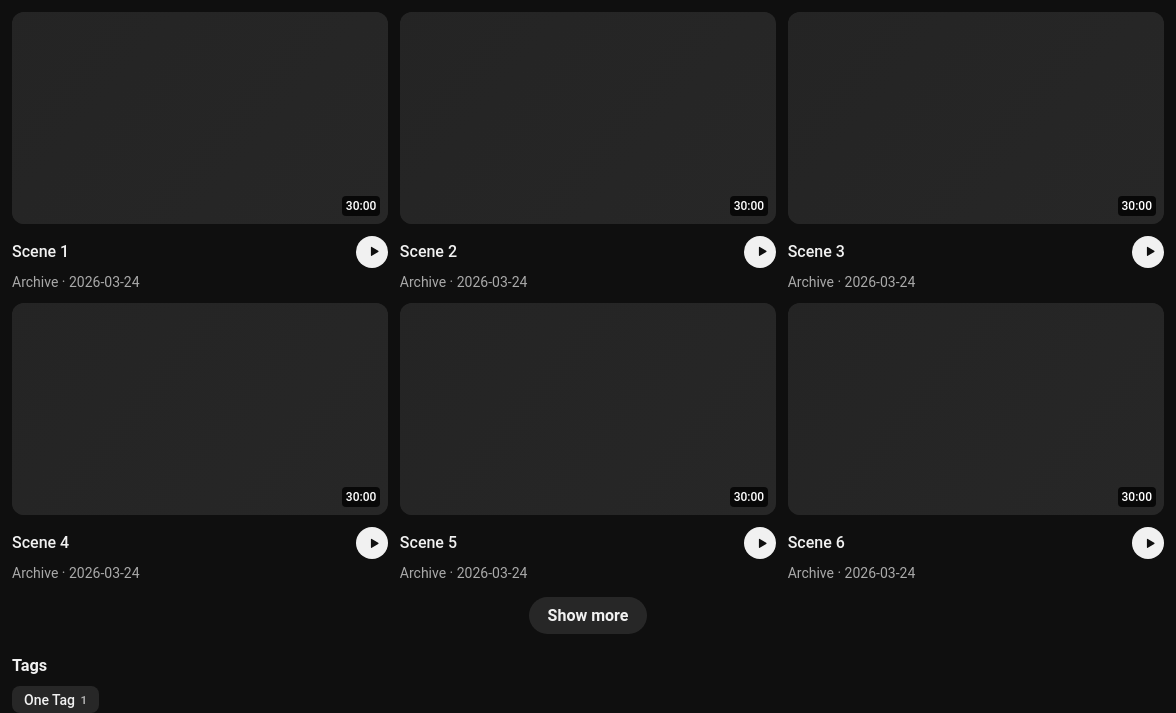
Test: LibrarySearchComponent › loads the next scenes with "Show more" and hides it once everything is shown
(page scrolled)
Click the button with test id "library-search-show-more": [588, 615] box [529,597,647,634]
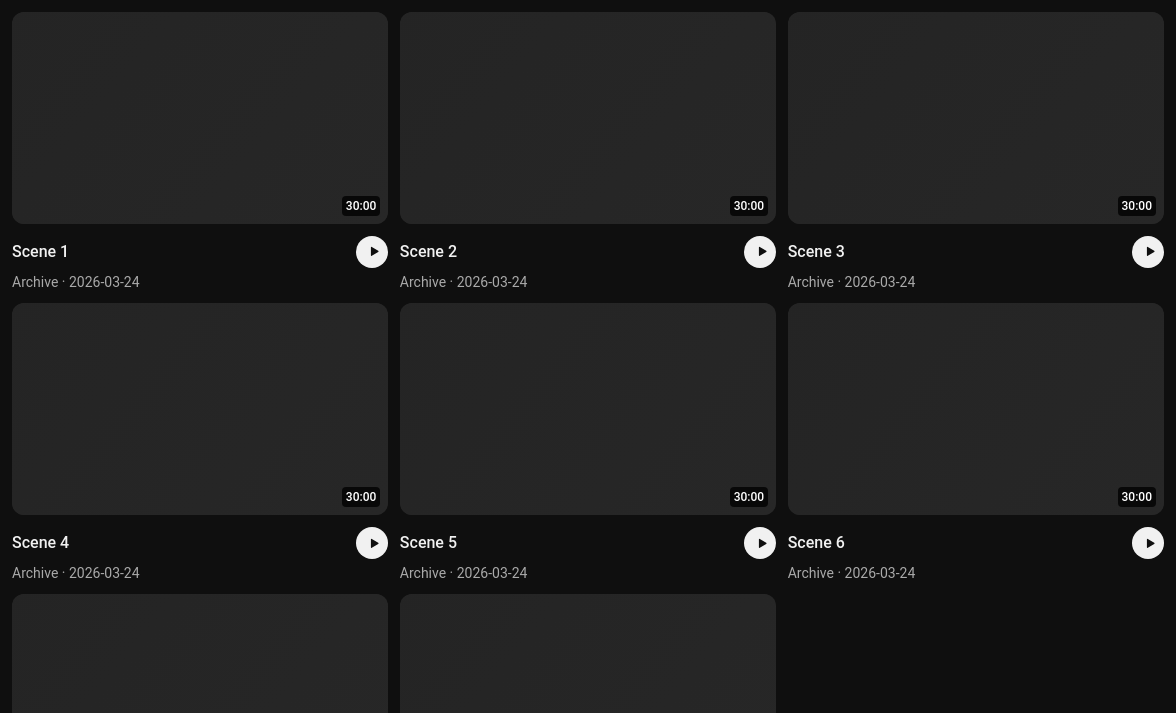
Expected: the button with test id "library-search-show-more" is gone
